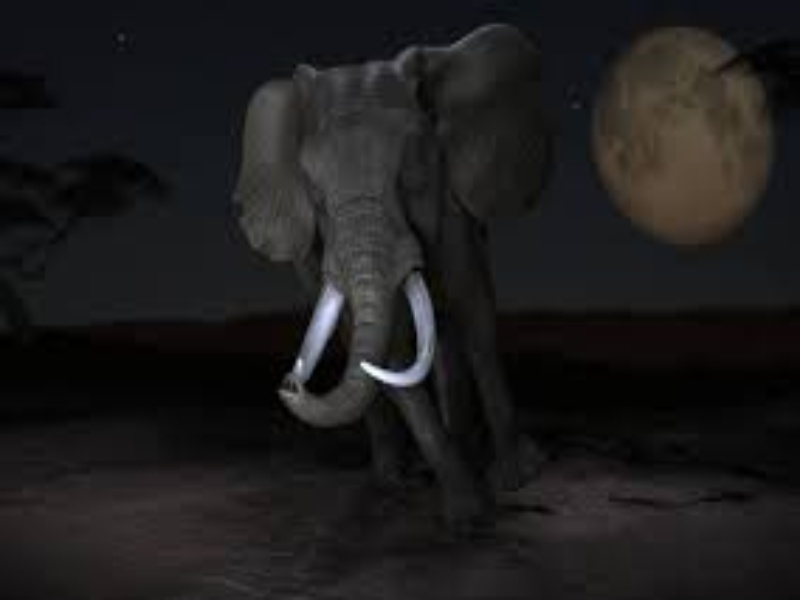elephant: (190, 31, 574, 510)
